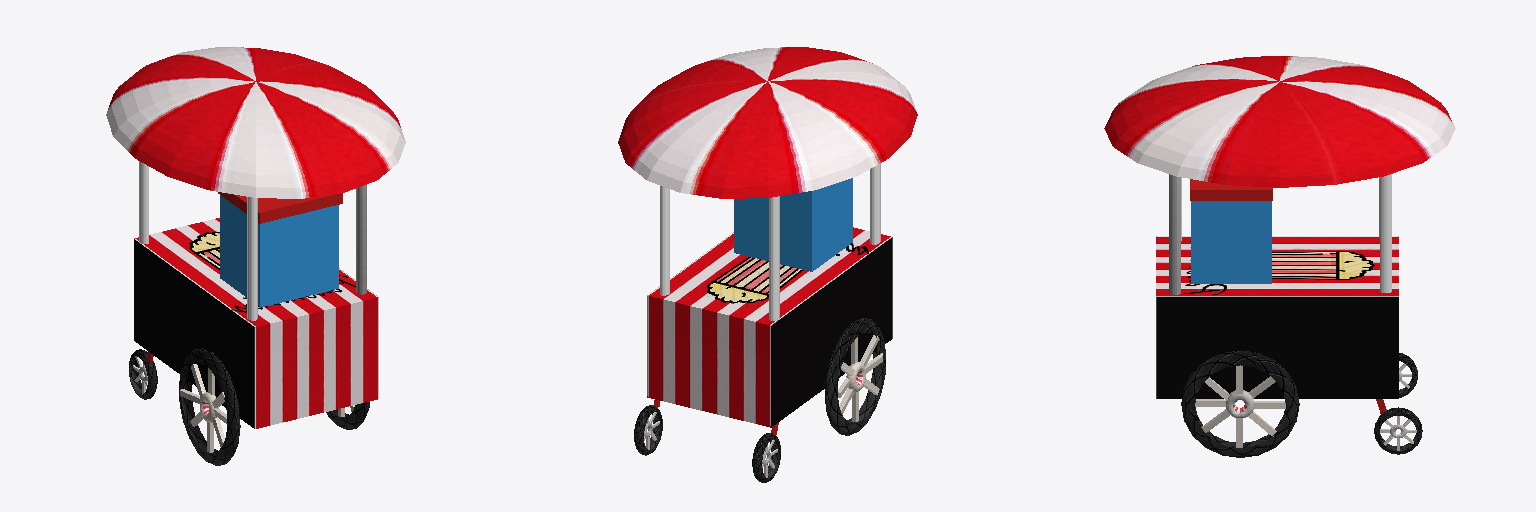
The picture shows the model from 3 angles: view 1: azimuth 30°, elevation 25°; view 2: azimuth 150°, elevation 25°; view 3: azimuth 270°, elevation 25°; orthographic projection.
Parts seen in each view (by area): view 1: pSphere102, pCube1, pCube50, pTorus2, pCube61, pCylinder3, pCylinder4, pTorus15, pCylinder2, pTorus10; view 2: pSphere102, pCube1, pCube50, pTorus2, pCylinder2, pCylinder1, pCylinder3, pTorus15, pTorus13; view 3: pSphere102, pCube1, pCube50, pTorus10, pCylinder4, pCylinder1, pCube61, pTorus13.
Boxes of the visible parts, x1,y1,x2,y2 form: pSphere102: [106, 47, 405, 198]; pCube1: [134, 218, 378, 428]; pCube50: [220, 195, 338, 307]; pTorus2: [179, 348, 240, 465]; pCube61: [218, 192, 342, 223]; pCylinder3: [247, 197, 257, 320]; pCylinder4: [356, 185, 366, 294]; pTorus15: [129, 349, 157, 399]; pCylinder2: [139, 161, 148, 243]; pTorus10: [326, 402, 369, 429]; pSphere102: [618, 47, 917, 198]; pCube1: [647, 227, 892, 427]; pCube50: [734, 178, 852, 271]; pTorus2: [825, 318, 885, 435]; pCylinder2: [769, 196, 779, 320]; pCylinder1: [660, 186, 669, 295]; pCylinder3: [870, 163, 880, 244]; pTorus15: [752, 433, 780, 482]; pTorus13: [634, 405, 662, 455]; pSphere102: [1104, 56, 1455, 187]; pCube1: [1156, 236, 1398, 398]; pCube50: [1191, 201, 1271, 283]; pTorus10: [1181, 350, 1299, 457]; pCylinder4: [1169, 174, 1180, 294]; pCylinder1: [1380, 174, 1391, 292]; pCube61: [1190, 179, 1272, 200]; pTorus13: [1374, 407, 1422, 454].
Size of the model in its own units: 8.96 by 12.29 by 11.22.
Materials: 54 (8 with a texture image).